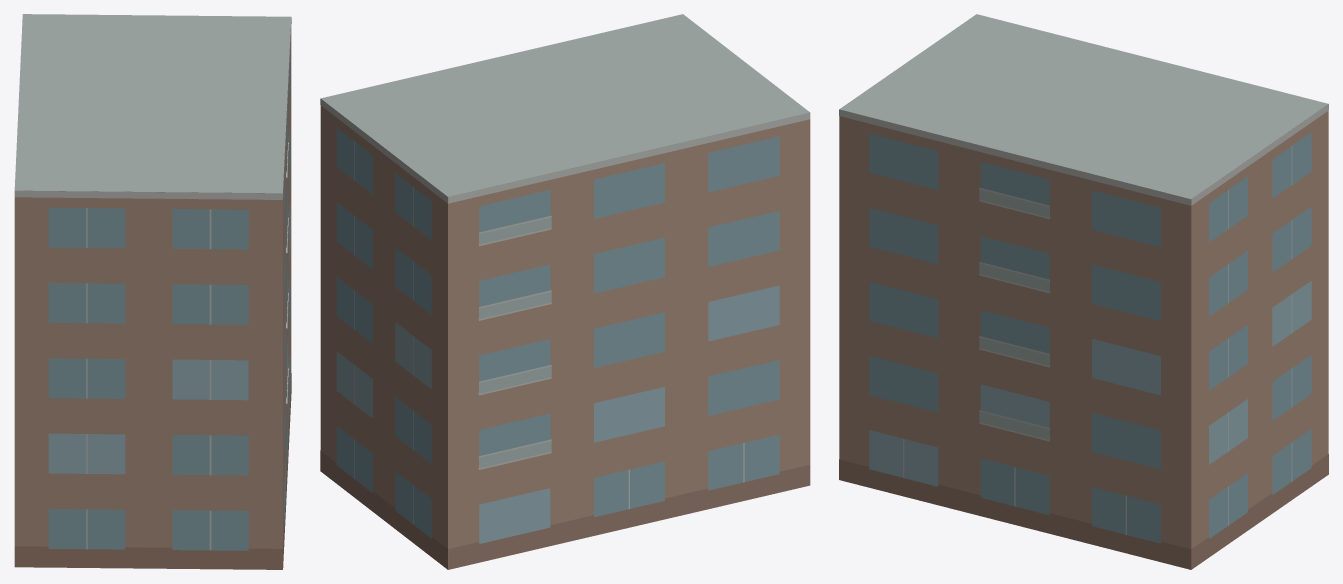
Rendered from survey-upis-32686272.glb.
3 renders of one model, left to right at view 1: azimuth 30°, elevation 25°; view 2: azimuth 150°, elevation 25°; view 3: azimuth 270°, elevation 25°, orthographic.
Parts seen in each view (by area): view 1: survey-upis-32686272.tmp; view 2: survey-upis-32686272.tmp; view 3: survey-upis-32686272.tmp.
Boxes of the visible parts, bbox=[...] form: survey-upis-32686272.tmp: bbox=[14, 14, 291, 569]; survey-upis-32686272.tmp: bbox=[320, 14, 810, 569]; survey-upis-32686272.tmp: bbox=[839, 14, 1328, 569].
Bounding box in the file's own units: 14.69 × 13.7 × 16.41.
